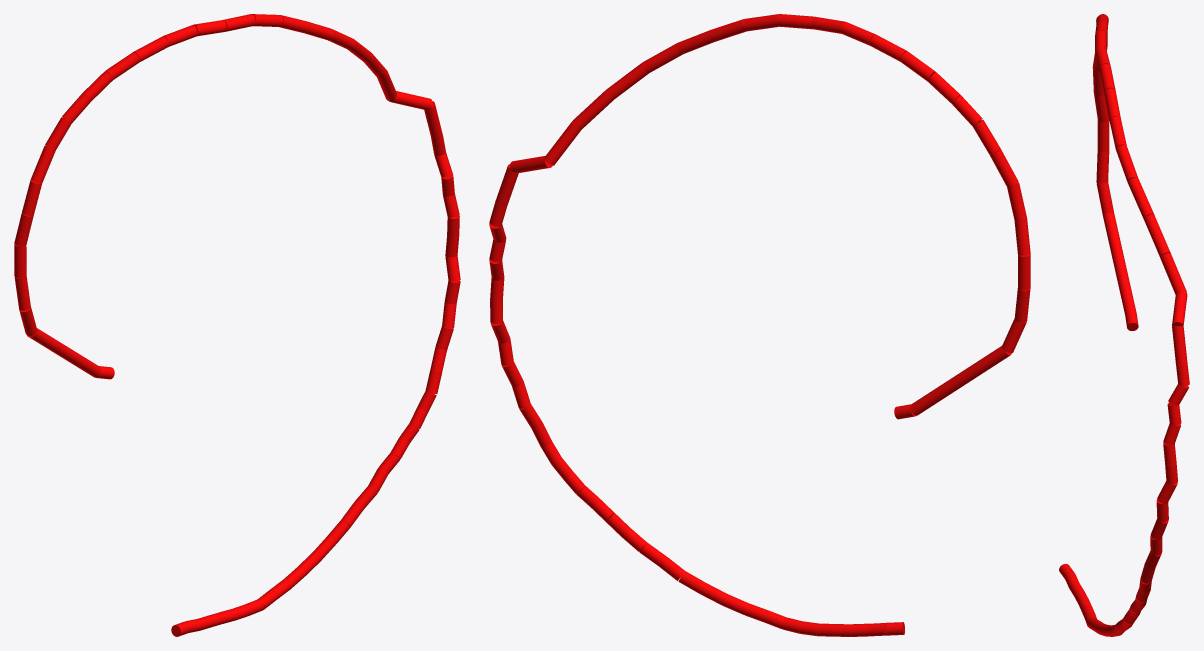
3 renders of one model, left to right at view 1: azimuth 30°, elevation 25°; view 2: azimuth 150°, elevation 25°; view 3: azimuth 270°, elevation 25°, orthographic. The views are drawn at different scales.
Visible parts, largest first — view 1: Cylinder(Clone); view 2: Cylinder(Clone); view 3: Cylinder(Clone) (×27).
Boxes of the visible parts, left/top/right/bottom form: Cylinder(Clone): left=27, top=328, right=101, bottom=377; Cylinder(Clone): left=910, top=346, right=1011, bottom=415; Cylinder(Clone) (×27): left=1092, top=46, right=1189, bottom=555.
Bounding box in the file's own units: 0.451 × 0.5386 × 0.1119.
